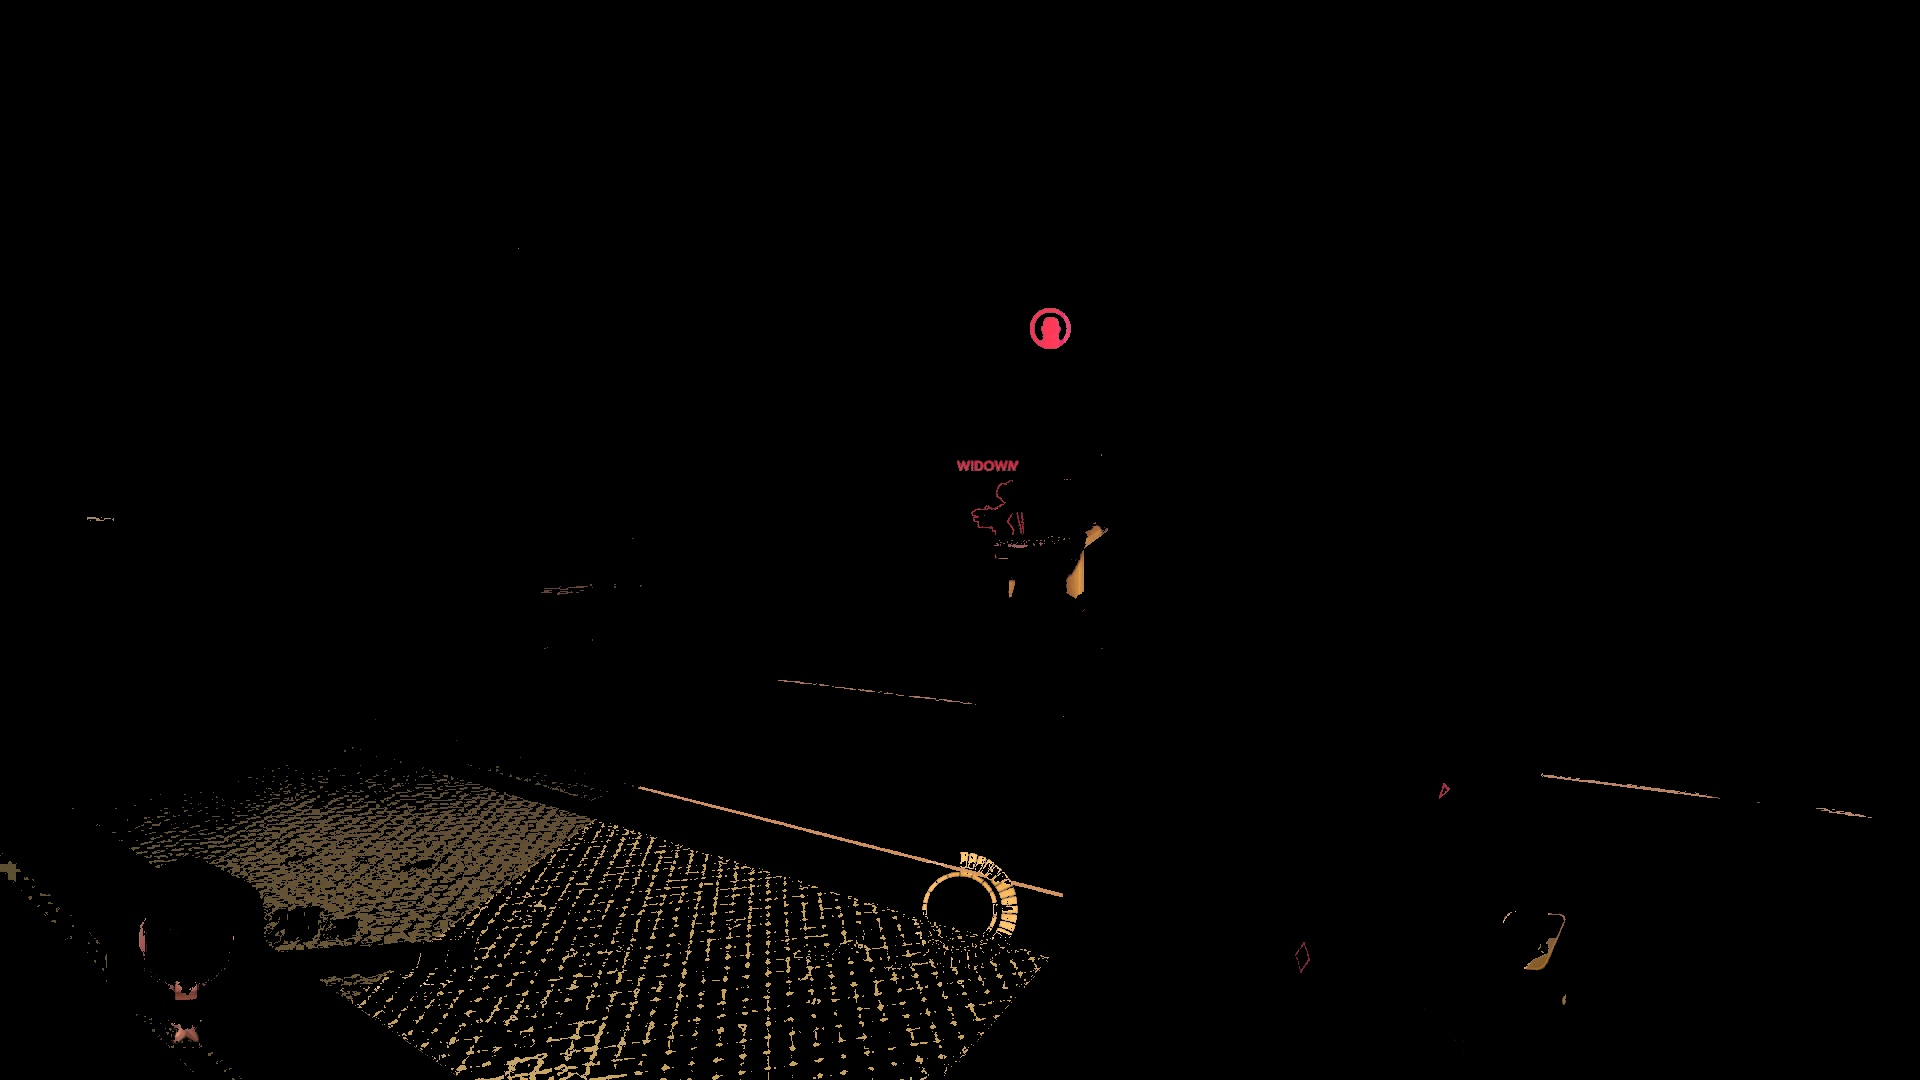widowmaker: (972, 480, 1025, 535)
